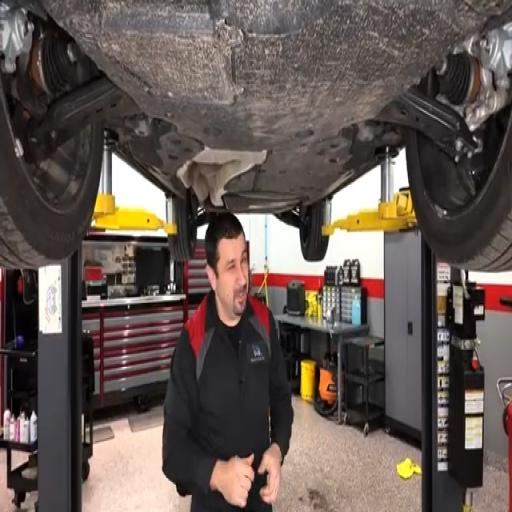tire: (0, 86, 103, 268), (406, 113, 511, 271), (299, 202, 329, 261)
wheel: (0, 84, 103, 268), (406, 109, 511, 271), (169, 192, 197, 261)
